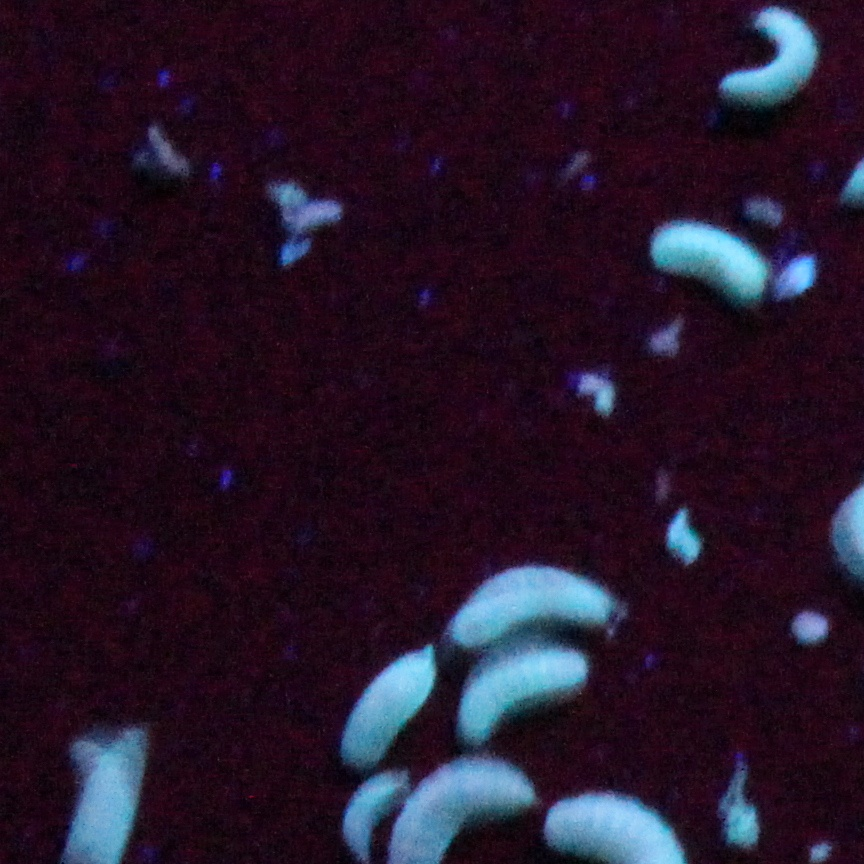larve: (443, 565, 624, 649), (465, 644, 588, 749), (338, 644, 432, 767), (657, 224, 768, 303), (720, 9, 818, 92)
